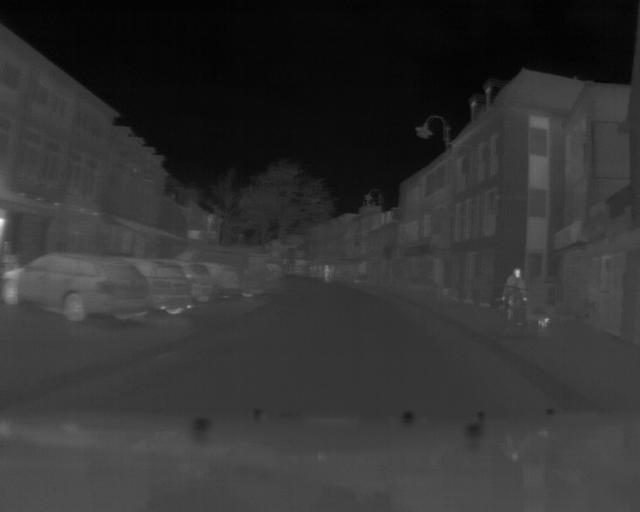car: (2, 250, 151, 329)
person: (504, 267, 527, 331)
